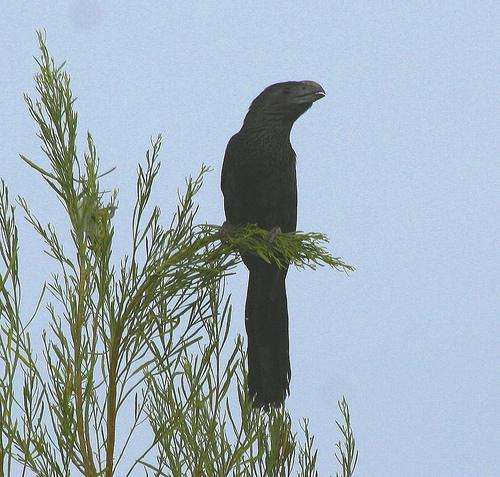004.Groove_billed_Ani: (218, 81, 342, 413)
